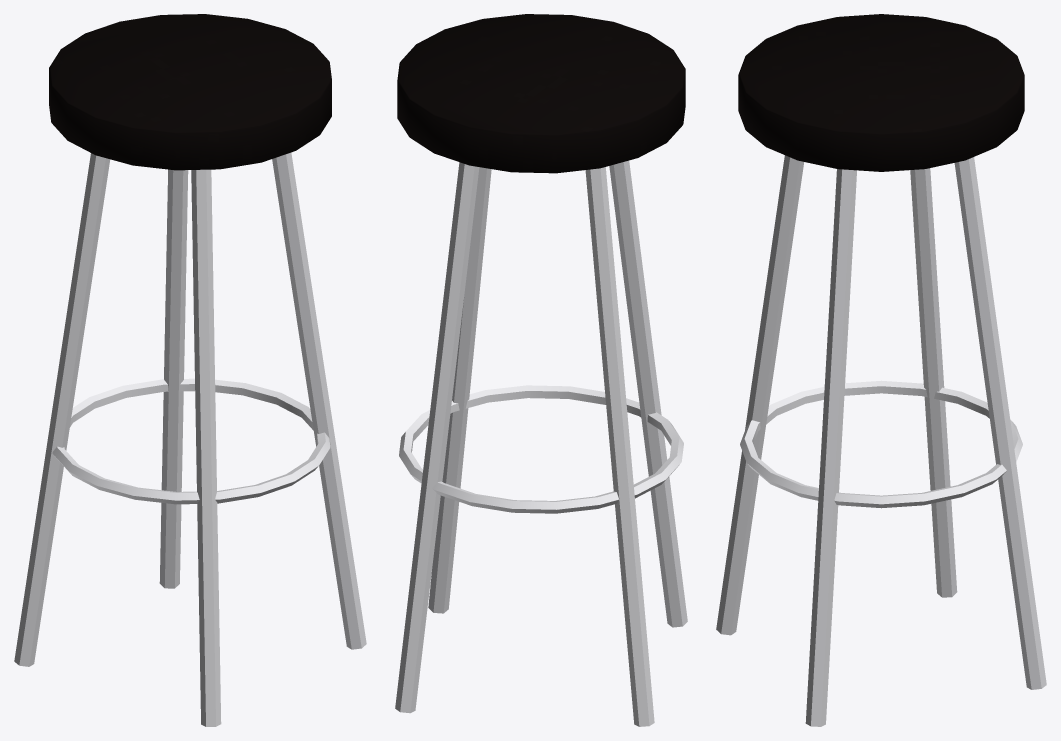
File: stage_stool.glb
3 views of the same model, side by side, from view 1: azimuth 30°, elevation 25°; view 2: azimuth 150°, elevation 25°; view 3: azimuth 270°, elevation 25° (orthographic).
Visible parts, largest first — view 1: Stage chrome.002, Stool seat; view 2: Stage chrome.002, Stool seat; view 3: Stage chrome.002, Stool seat.
Boxes of the visible parts, x1=… form: Stage chrome.002: x1=14, y1=152, x2=366, y2=726; Stool seat: x1=49, y1=14, x2=331, y2=170; Stage chrome.002: x1=395, y1=160, x2=687, y2=726; Stool seat: x1=397, y1=14, x2=685, y2=173; Stage chrome.002: x1=716, y1=155, x2=1046, y2=726; Stool seat: x1=738, y1=14, x2=1024, y2=171.
Size of the model in its own units: 0.389 by 0.7666 by 0.3922.
Materials: 2 (1 with a texture image).
